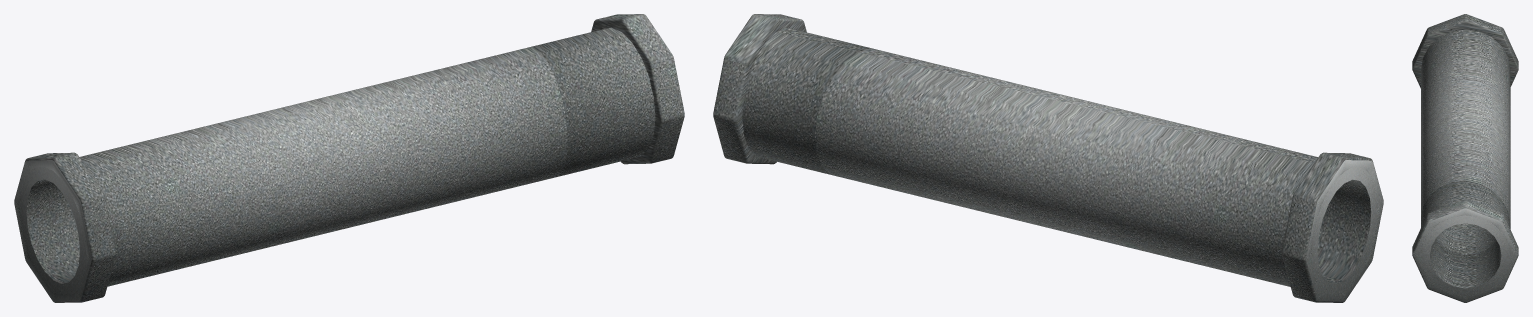
Rendered from パイプ.fbx.
The picture shows the model from 3 angles, left to right: view 1: azimuth 30°, elevation 25°; view 2: azimuth 150°, elevation 25°; view 3: azimuth 270°, elevation 25°; orthographic projection. The views are drawn at different scales.
Visible parts, largest first — view 1: パイプ1; view 2: パイプ1; view 3: パイプ1.
Boxes of the visible parts, left/top/right/bottom form: パイプ1: left=14, top=14, right=684, bottom=302; パイプ1: left=713, top=14, right=1383, bottom=302; パイプ1: left=1412, top=14, right=1518, bottom=302.
Size of the model in its own units: 1345 by 313 by 313.
